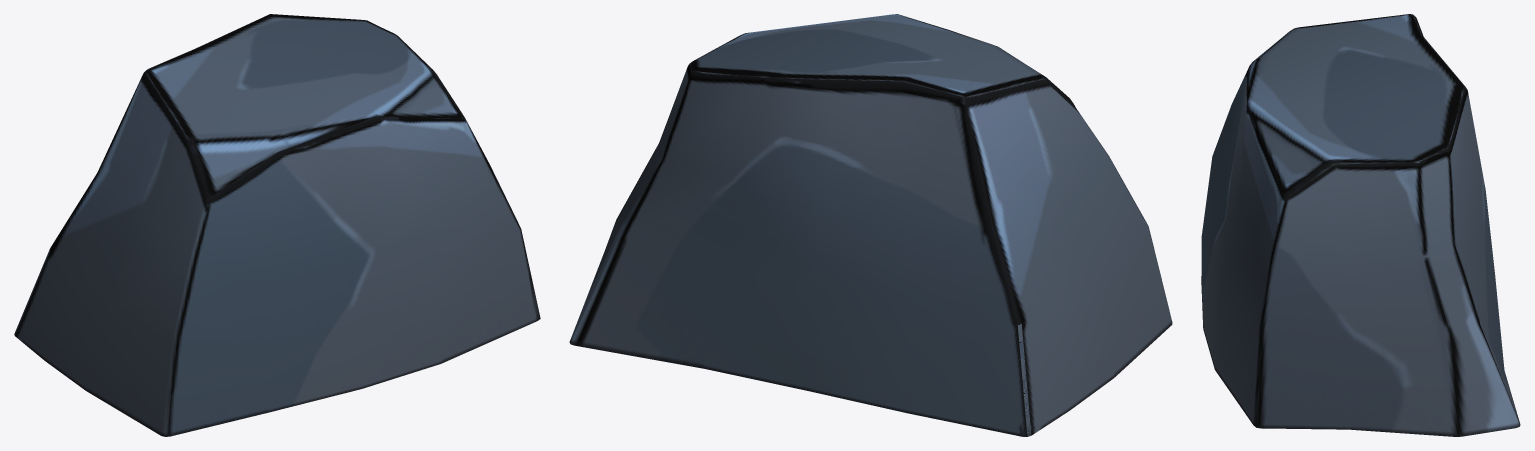
Rendered from Moonset_FBX_rock_01.fbx.
The picture shows the model from 3 angles, left to right: view 1: azimuth 30°, elevation 25°; view 2: azimuth 150°, elevation 25°; view 3: azimuth 270°, elevation 25°; orthographic projection. The views are drawn at different scales.
Visible parts, largest first — view 1: rocks1; view 2: rocks1; view 3: rocks1.
Part boxes in pixels (<box>): rocks1: <box>14,14,540,436</box>; rocks1: <box>569,14,1172,436</box>; rocks1: <box>1201,14,1520,436</box>.
Bounding box in the file's own units: 4.85 × 2.92 × 3.14.
